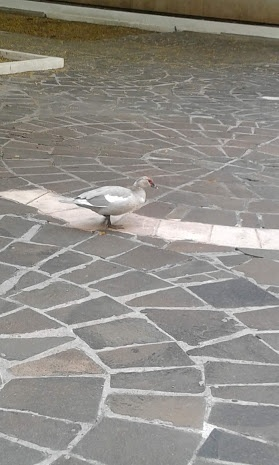pato: (77, 177, 154, 221)
